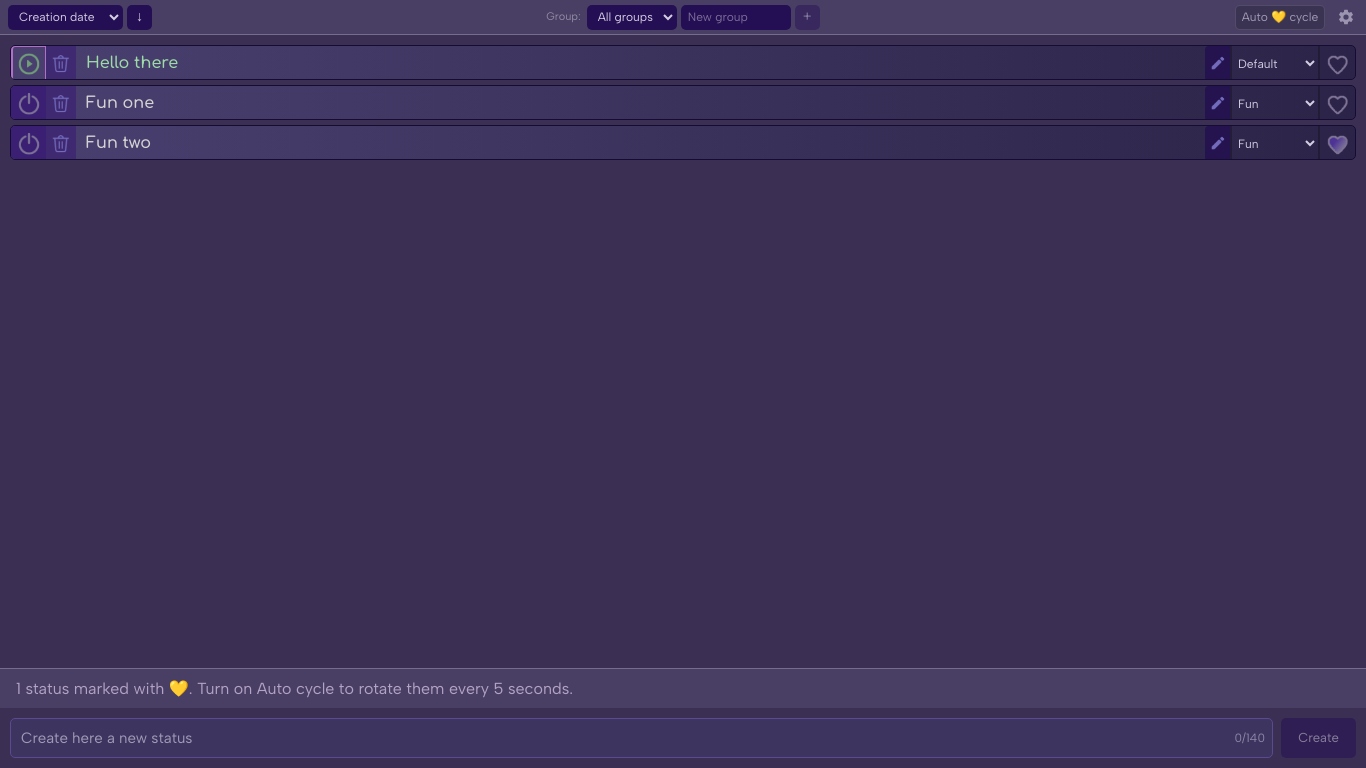
Test: StatusPage › creates a status with Enter
This screenshot has width=1366, height=768.
In the field labelled "new status": (642, 738) [10,718,1273,758], type "Via enter"
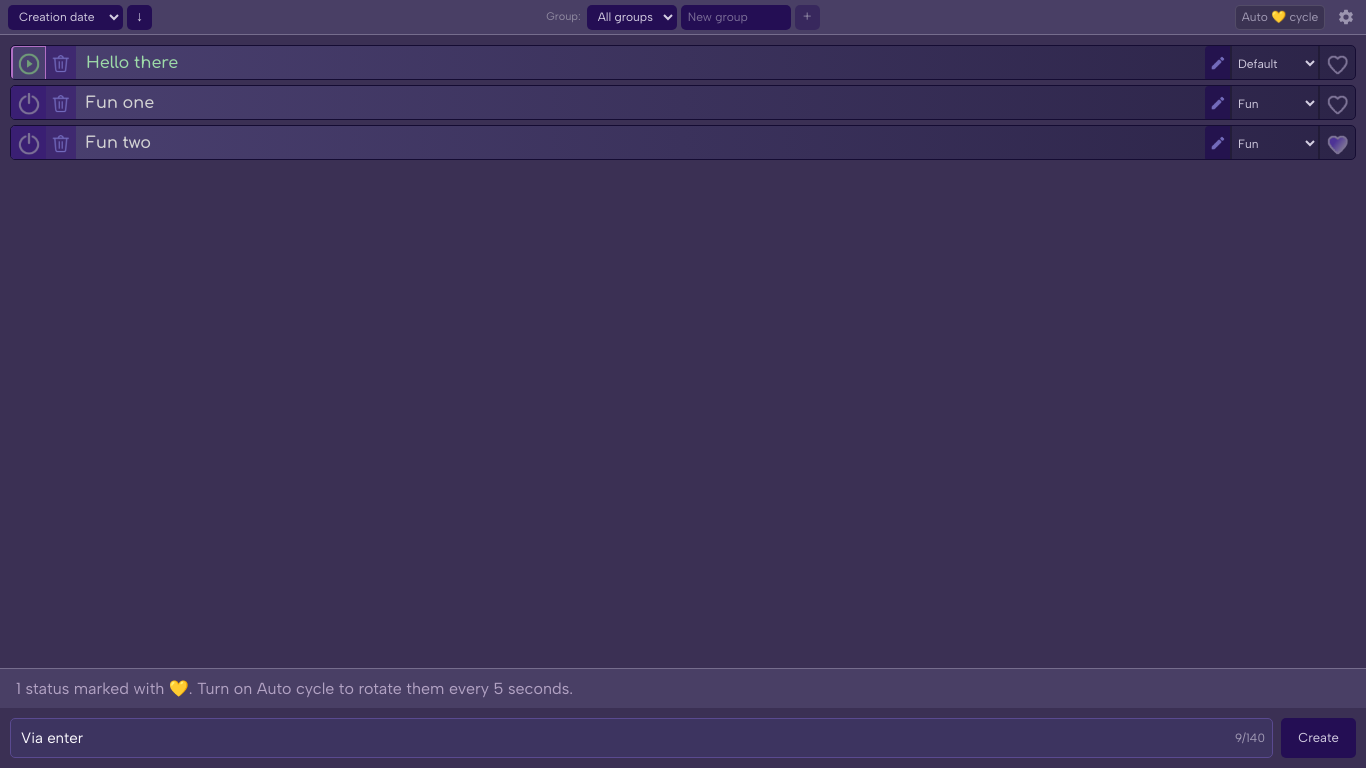
Press Enter in the field named "new status", box [10,718,1273,758]
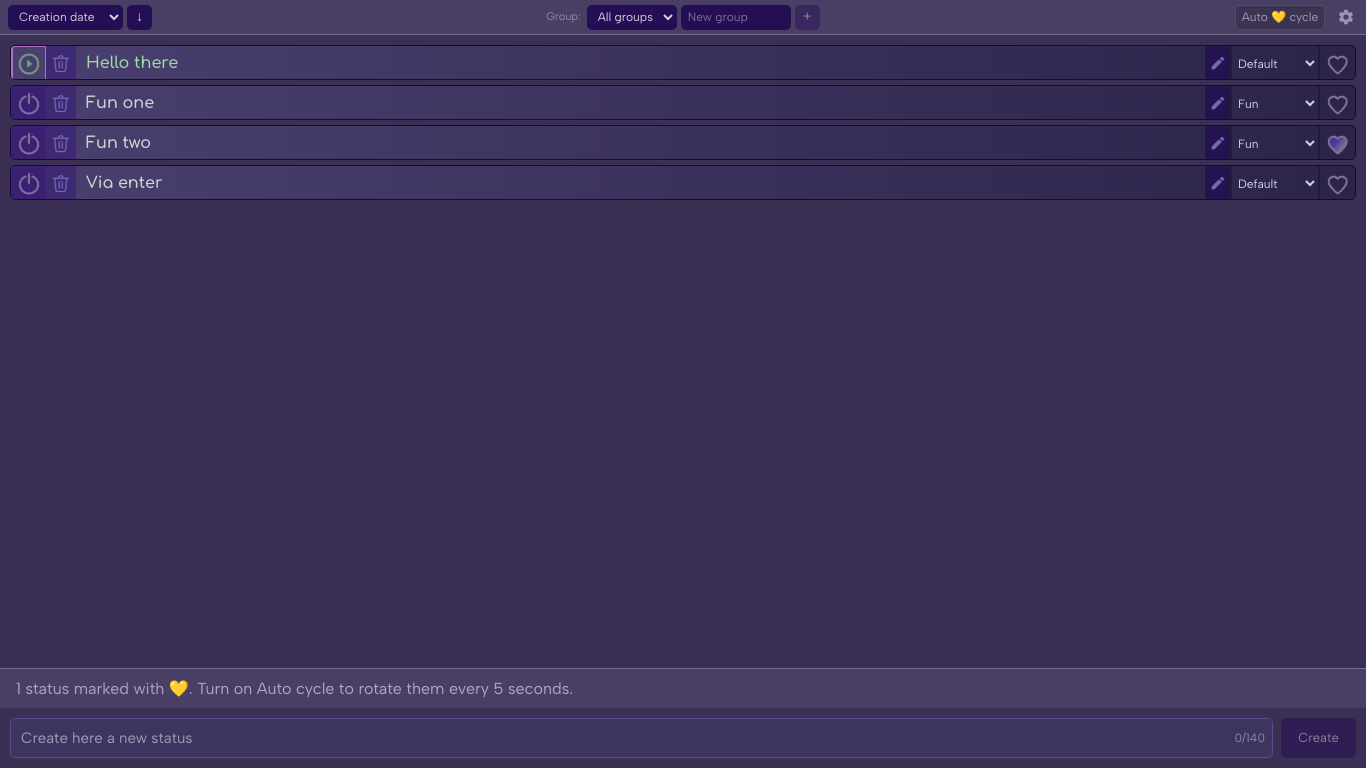
Check: the text "Via enter" is shown, box [86,173,163,194]
